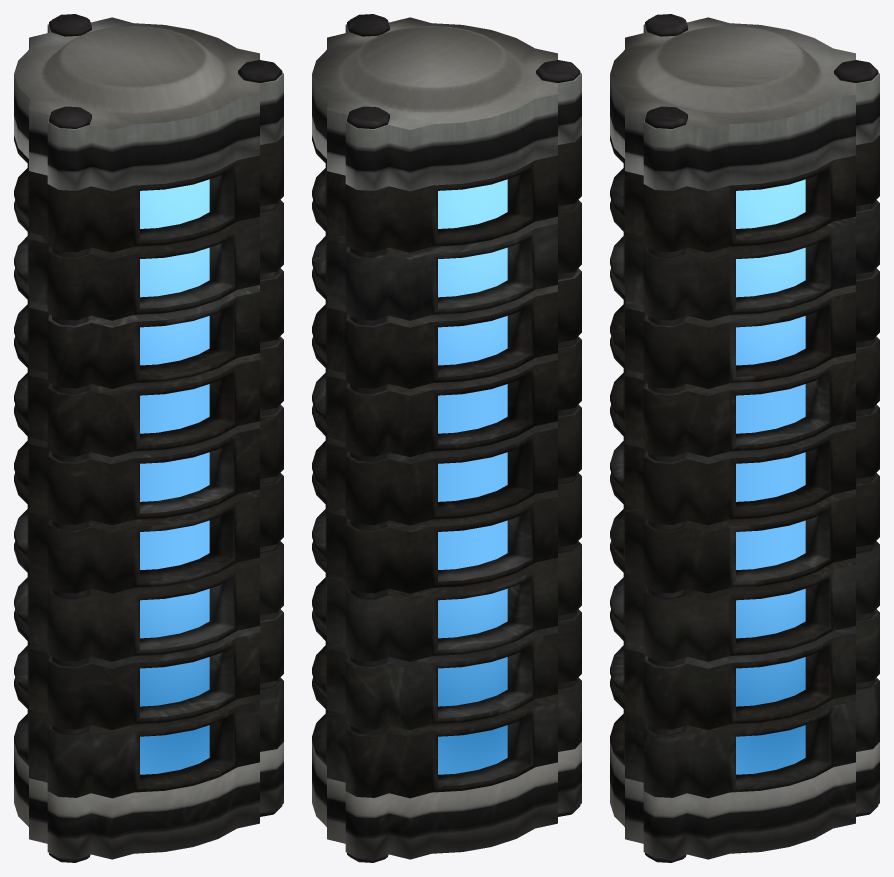
File: Item.FBX
3 views of the same model, side by side, from view 1: azimuth 30°, elevation 25°; view 2: azimuth 150°, elevation 25°; view 3: azimuth 270°, elevation 25° (orthographic).
Parts seen in each view (by area): view 1: Item, Energia; view 2: Item, Energia; view 3: Item, Energia.
Part boxes in pixels (box(x1,y1,x2,y2)): Item: box(14, 14, 283, 862); Energia: box(140, 179, 209, 774); Item: box(312, 14, 581, 862); Energia: box(438, 179, 507, 774); Item: box(610, 14, 879, 862); Energia: box(736, 179, 805, 774).
Bounding box in the file's own units: 31.7 × 99.93 × 32.03.
